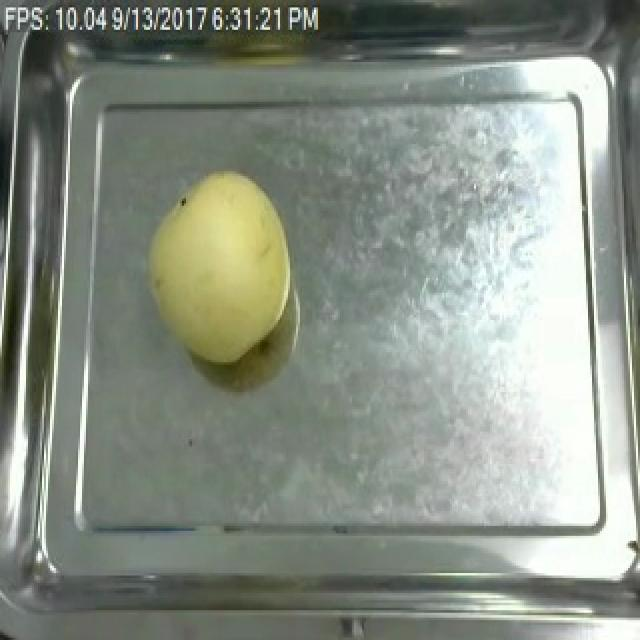Fruit: (140, 166, 300, 372)
